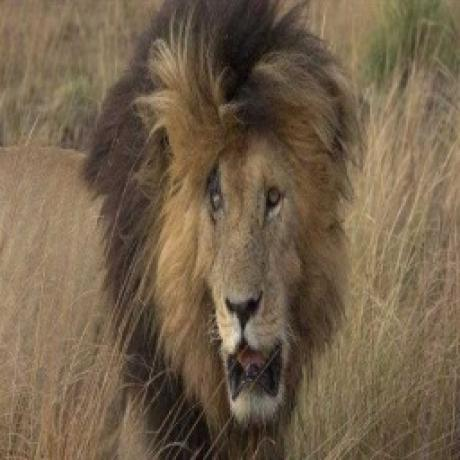Lion: (84, 0, 372, 460)
